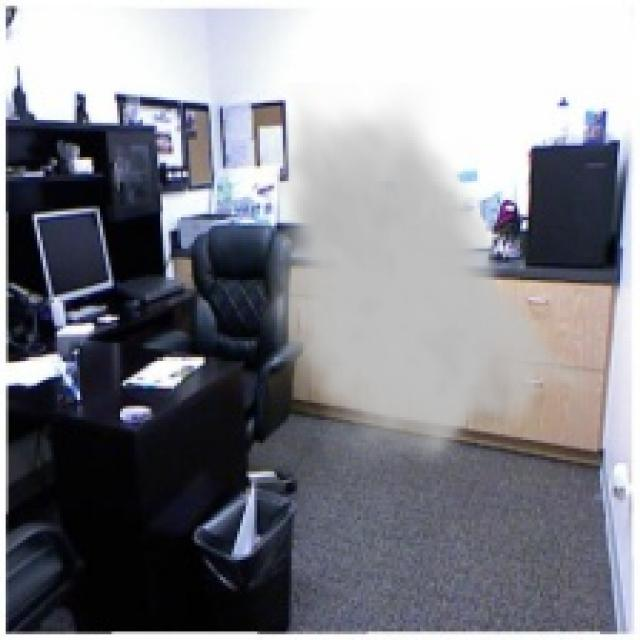smoke: (260, 83, 609, 474)
